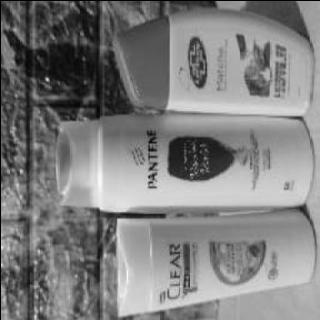objects: (52, 112, 314, 208), (93, 208, 320, 311), (112, 14, 312, 112)
